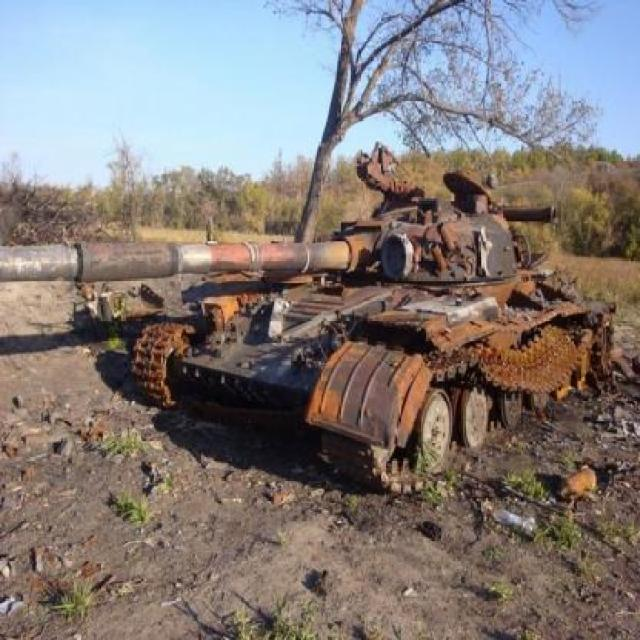corrosion: (2, 141, 616, 499)
